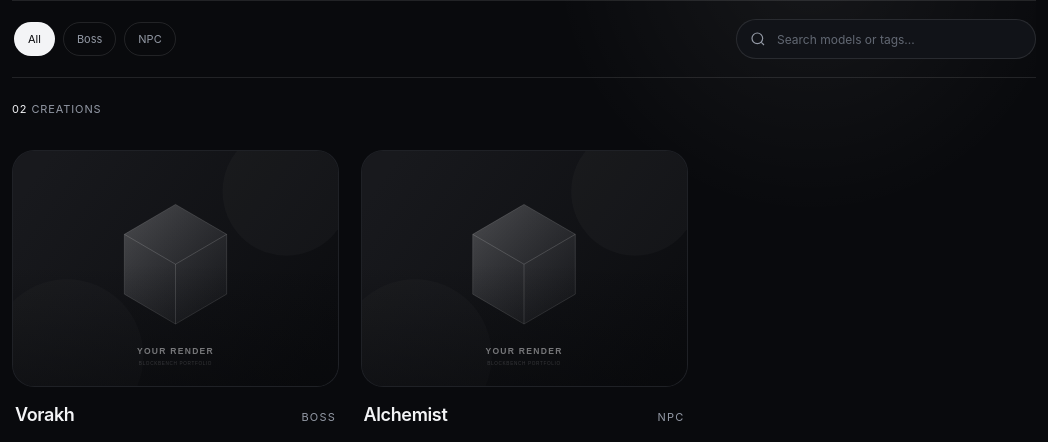
it: GalleryClient › searches names and tags case-insensitively
The width and height of the screenshot is (1048, 442).
In the search field: (886, 39) x1=736 y1=19 x2=1036 y2=59, type "ICE"
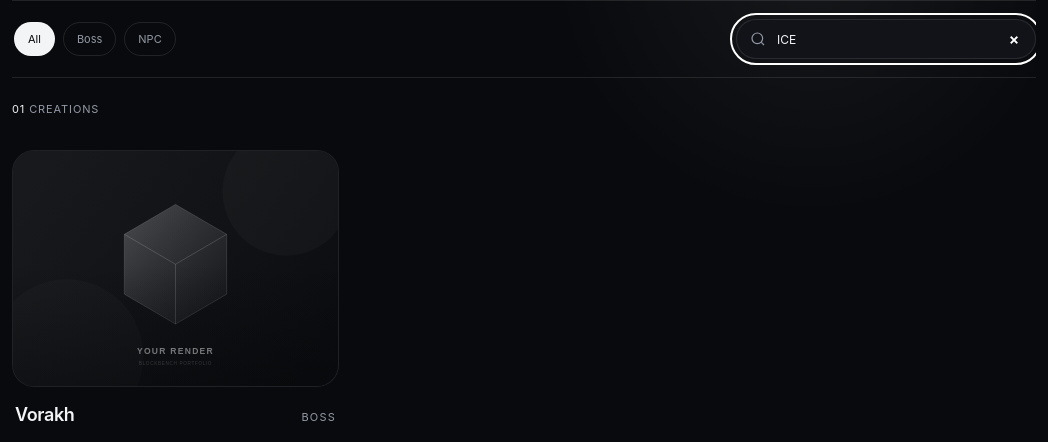
Expected: the heading "Vorakh" is shown, x1=15 y1=404 x2=74 y2=425
Now the link "Alchemist" is gone
